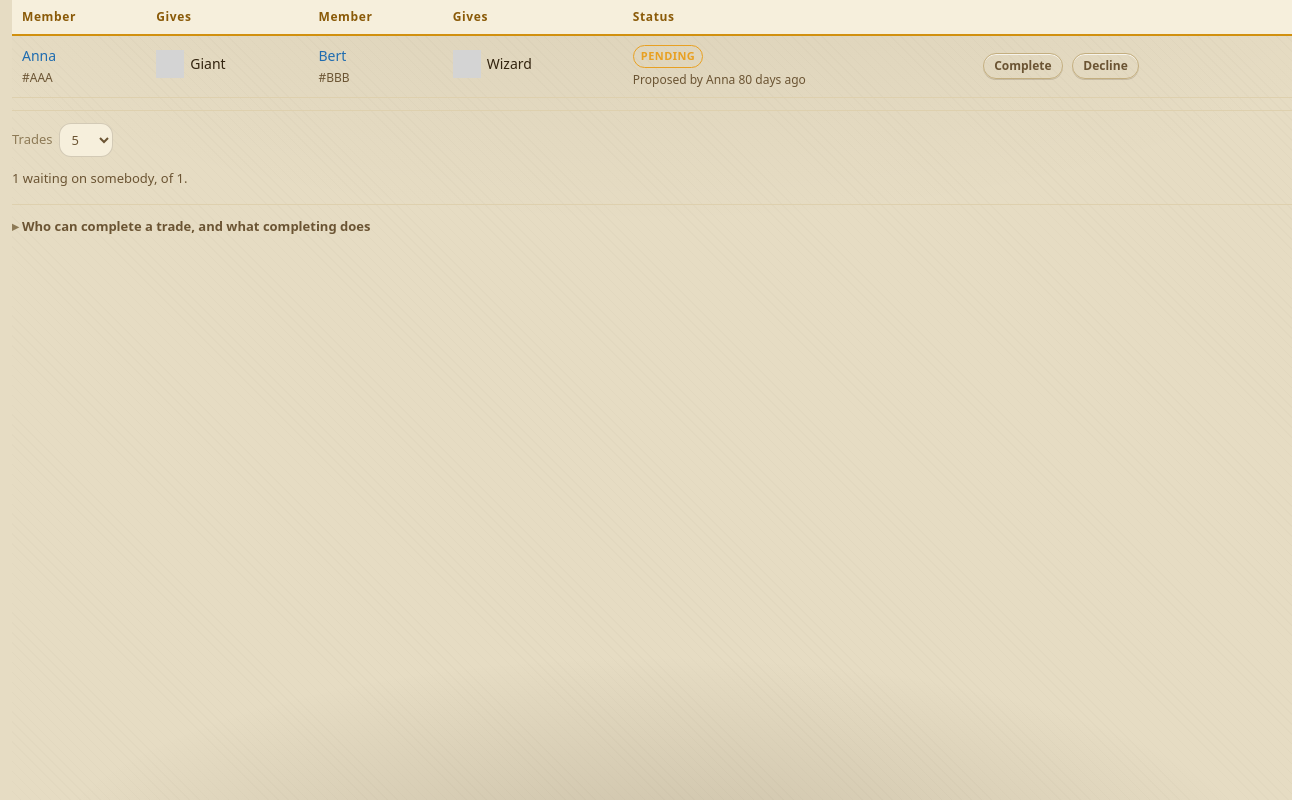
Test: ResolveActions.act — completing a pending trade › falls back to the generic message for a failure with no message of its own
Expected: the table named "Trade tracker" is shown, [12,0,1291,98]
What coordinates should you click on to do the following:
click the button "Complete"
I would click on:
 (1023, 66)
Its box is [983,53,1063,79].
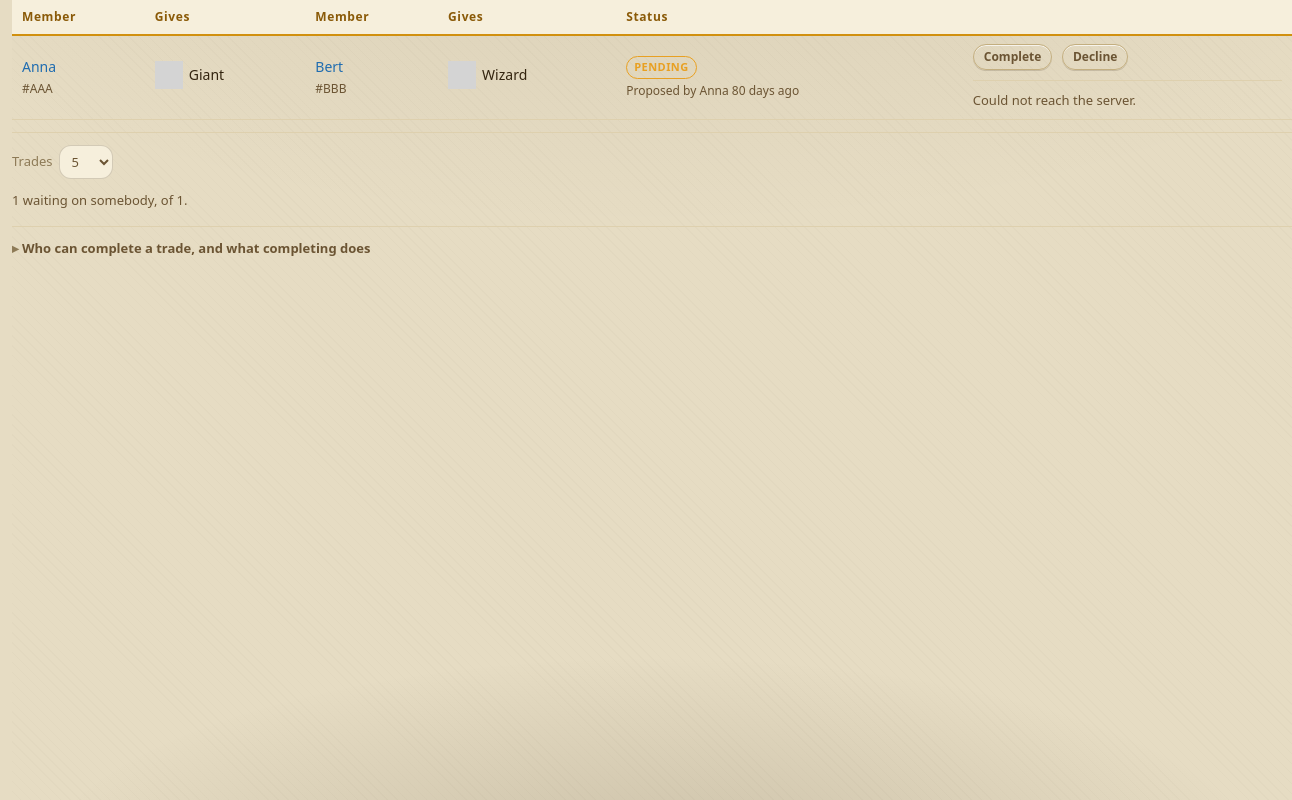
Expected: the text "Could not reach the server." is shown, [973,80,1282,110]
